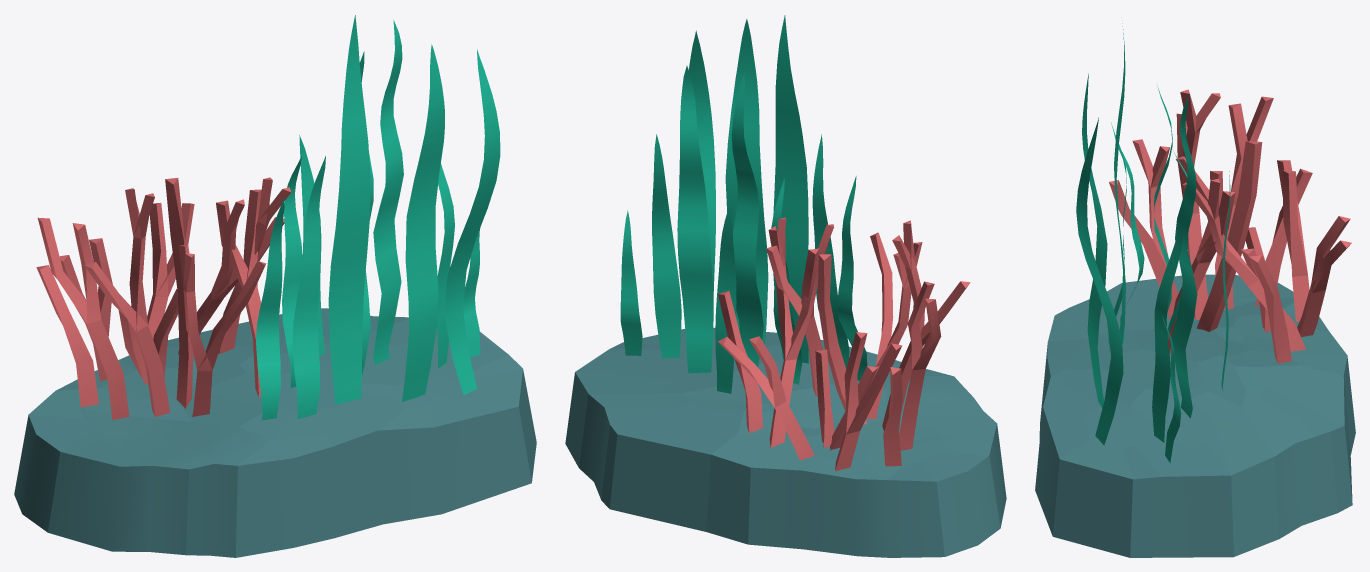
The model's file is coral_symbiosis_E.fbx.
3 renders of one model, left to right at view 1: azimuth 30°, elevation 25°; view 2: azimuth 150°, elevation 25°; view 3: azimuth 270°, elevation 25°, orthographic. The views are drawn at different scales.
Parts seen in each view (by area): view 1: coral_symbiosis_E_base, coral_symbiosis_E_sponge, coral_symbiosis_D_kelp_A, coral_symbiosis_D_kelp_B, coral_symbiosis_D_kelp_D, coral_symbiosis_D_kelp_C, coral_symbiosis_D_kelp_F, coral_symbiosis_D_kelp_J, coral_symbiosis_D_kelp_H, coral_symbiosis_D_kelp_G, coral_symbiosis_D_kelp_K, coral_symbiosis_D_kelp_I (+1 smaller); view 2: coral_symbiosis_E_base, coral_symbiosis_E_sponge, coral_symbiosis_D_kelp_D, coral_symbiosis_D_kelp_A, coral_symbiosis_D_kelp_E, coral_symbiosis_D_kelp_B, coral_symbiosis_D_kelp_G, coral_symbiosis_D_kelp_C, coral_symbiosis_D_kelp_I, coral_symbiosis_D_kelp_K, coral_symbiosis_D_kelp_J, coral_symbiosis_D_kelp_F (+1 smaller); view 3: coral_symbiosis_E_base, coral_symbiosis_E_sponge, coral_symbiosis_D_kelp_C, coral_symbiosis_D_kelp_D, coral_symbiosis_D_kelp_G, coral_symbiosis_D_kelp_B, coral_symbiosis_D_kelp_A, coral_symbiosis_D_kelp_K, coral_symbiosis_D_kelp_J, coral_symbiosis_D_kelp_E, coral_symbiosis_D_kelp_I.
Boxes of the visible parts, x1,y1,x2,y2 form: coral_symbiosis_E_base: (14,308,536,557); coral_symbiosis_E_sponge: (36,177,291,419); coral_symbiosis_D_kelp_A: (328,15,370,404); coral_symbiosis_D_kelp_B: (402,44,444,401); coral_symbiosis_D_kelp_D: (373,20,403,364); coral_symbiosis_D_kelp_C: (444,49,500,394); coral_symbiosis_D_kelp_F: (292,156,325,418); coral_symbiosis_D_kelp_J: (256,198,284,420); coral_symbiosis_D_kelp_H: (282,156,302,387); coral_symbiosis_D_kelp_G: (437,163,454,368); coral_symbiosis_D_kelp_K: (463,228,480,357); coral_symbiosis_D_kelp_I: (299,135,324,355); coral_symbiosis_E_base: (565,327,1006,557); coral_symbiosis_E_sponge: (718,217,970,471); coral_symbiosis_D_kelp_D: (677,66,713,373); coral_symbiosis_D_kelp_A: (773,15,808,363); coral_symbiosis_D_kelp_E: (731,71,763,366); coral_symbiosis_D_kelp_B: (725,19,768,344); coral_symbiosis_D_kelp_G: (652,134,681,358); coral_symbiosis_D_kelp_C: (689,30,715,297); coral_symbiosis_D_kelp_I: (715,198,736,393); coral_symbiosis_D_kelp_K: (620,210,642,355); coral_symbiosis_D_kelp_J: (837,176,867,380); coral_symbiosis_D_kelp_F: (812,134,849,368); coral_symbiosis_E_base: (1035,274,1355,557); coral_symbiosis_E_sponge: (1109,89,1351,363); coral_symbiosis_D_kelp_C: (1076,117,1123,445); coral_symbiosis_D_kelp_D: (1171,96,1197,418); coral_symbiosis_D_kelp_G: (1152,195,1184,442); coral_symbiosis_D_kelp_B: (1082,73,1107,408); coral_symbiosis_D_kelp_A: (1114,23,1125,343); coral_symbiosis_D_kelp_K: (1162,316,1181,462); coral_symbiosis_D_kelp_J: (1114,135,1144,343); coral_symbiosis_D_kelp_E: (1154,86,1172,354); coral_symbiosis_D_kelp_I: (1221,171,1230,390).
Size of the model in its own units: 109 by 108 by 68.59.
